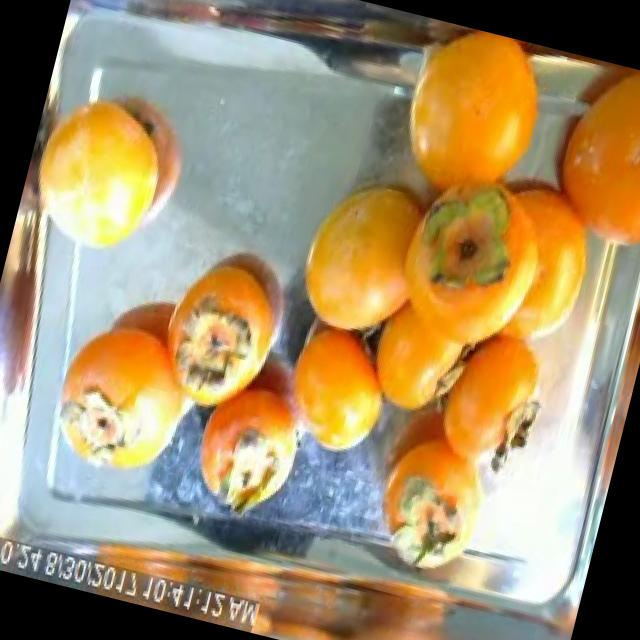Fruit: (362, 12, 566, 240), (270, 145, 470, 366), (17, 62, 215, 284), (171, 361, 329, 533)
